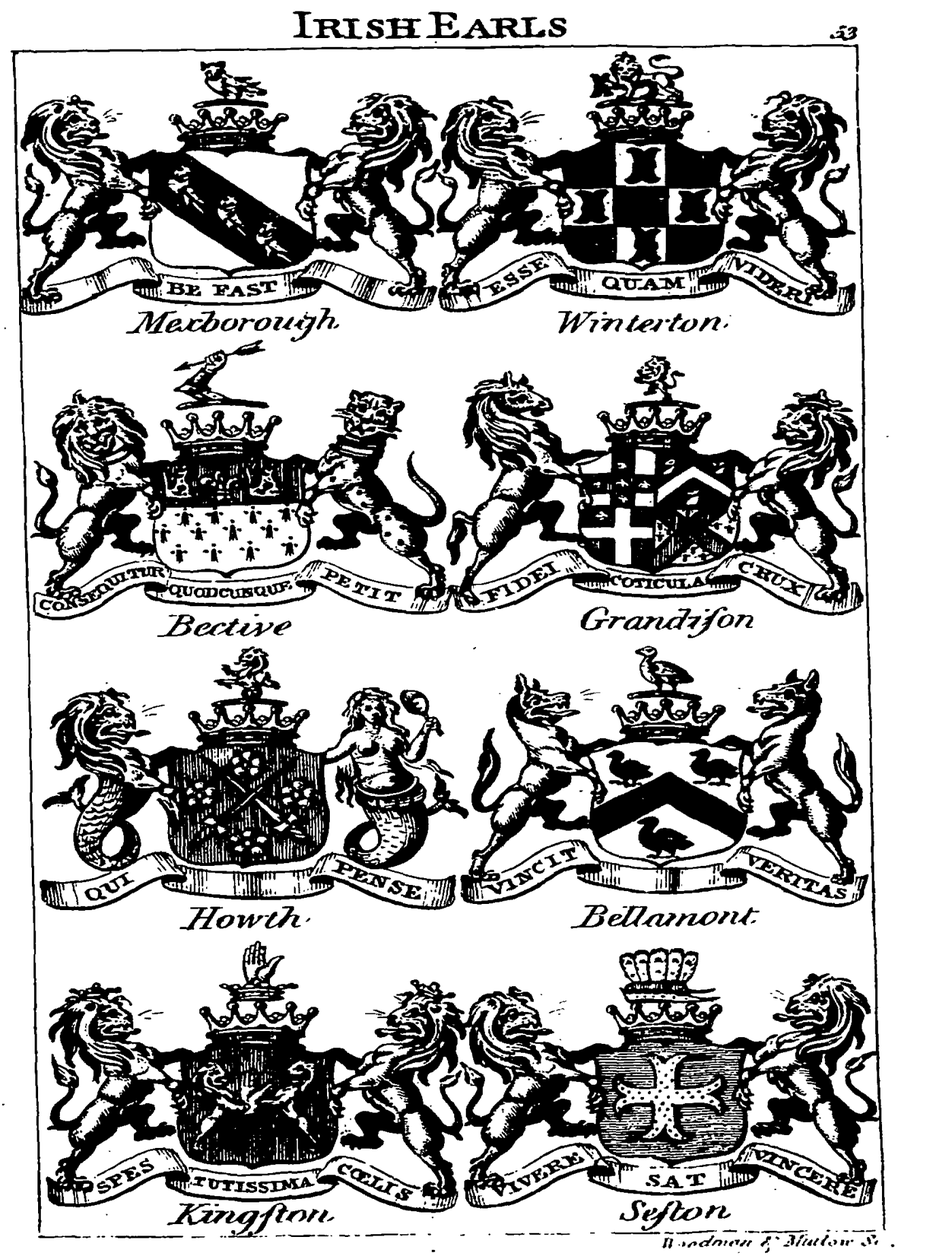coat_of_arms: (22, 338, 452, 640), (46, 929, 460, 1236), (452, 927, 879, 1222), (449, 336, 866, 637), (451, 636, 869, 930), (40, 638, 456, 927), (437, 57, 860, 340), (20, 61, 437, 338)
